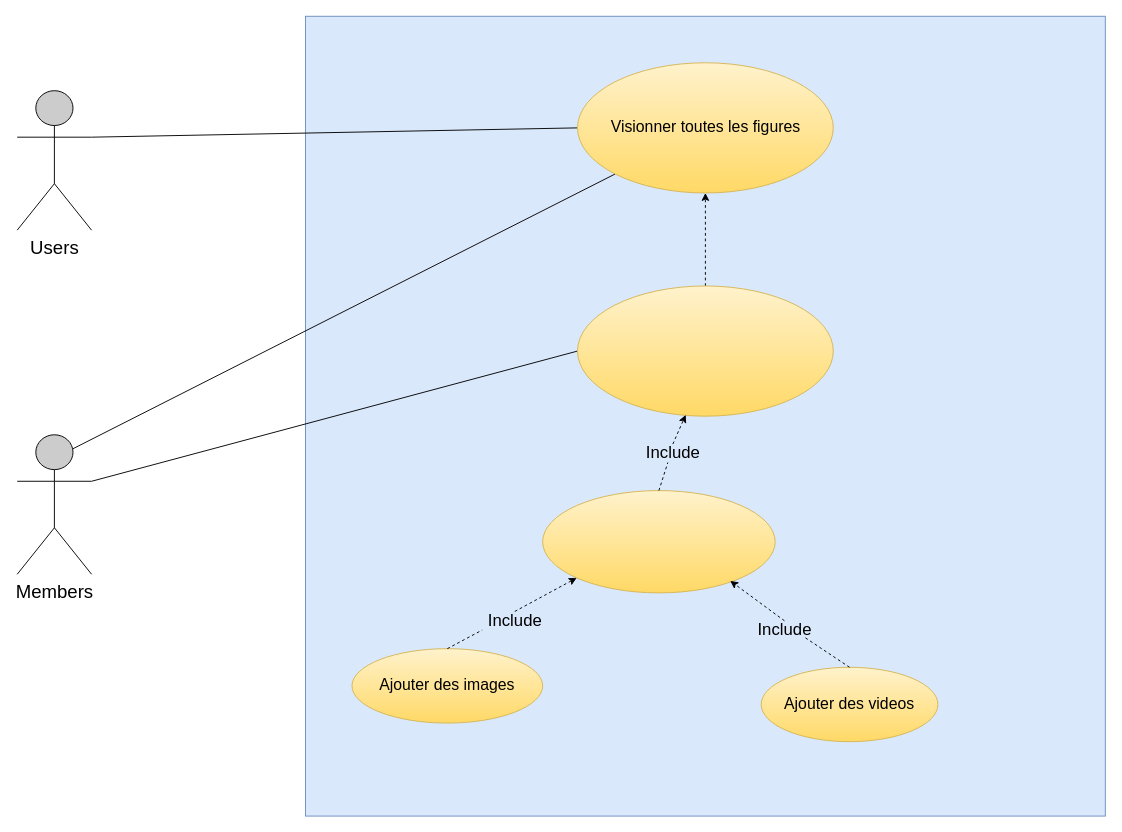
This 1122x832 diagram has some shape labels left out. The shapes that lost their labels are listed below. From the top down, each one's centre as x and y in pixels, then its label:
the point at 705,350: Créer un nouvel article de figures
the point at 658,541: Rediger la description de la figure
